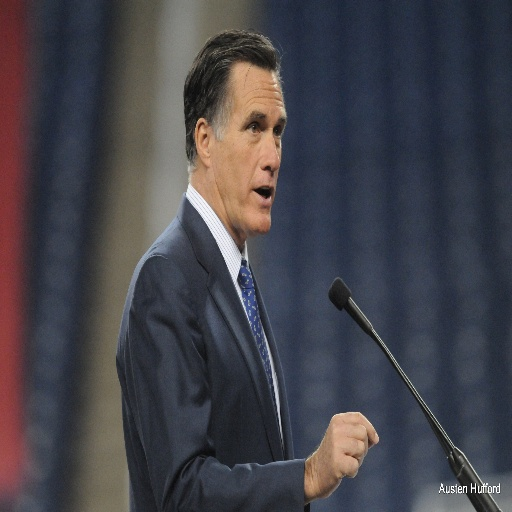hand: (316, 414, 385, 487)
